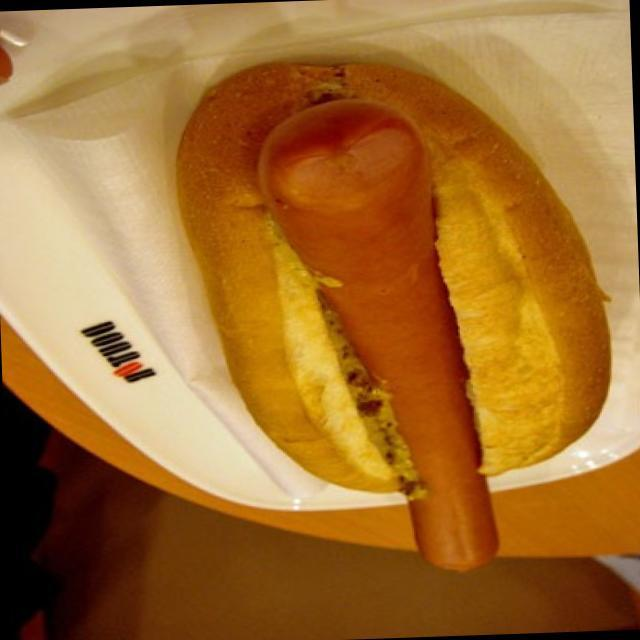Hot Dog: (172, 54, 608, 572)
